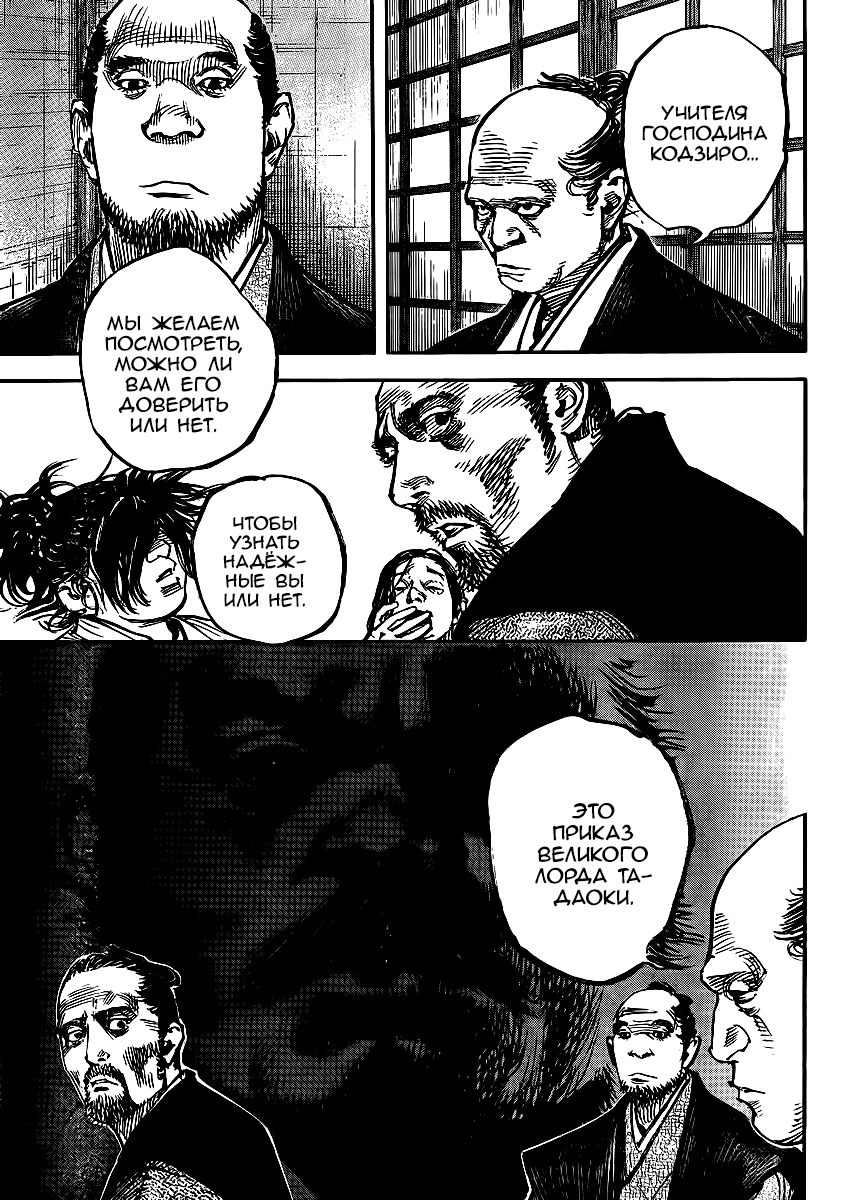frame: (1, 376, 807, 1200), (383, 1, 809, 354), (1, 1, 376, 357)
